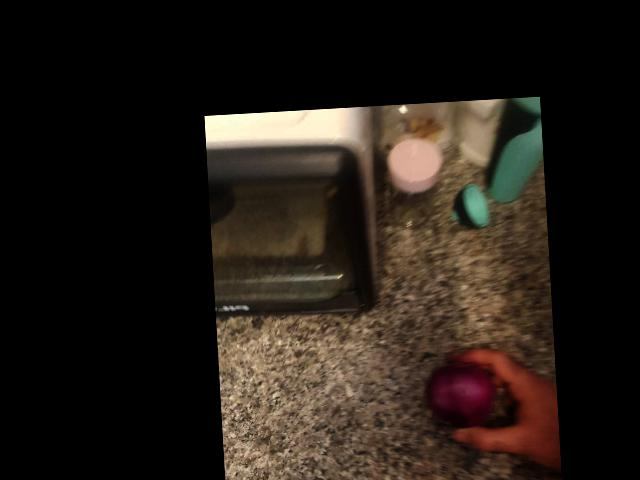onion: (430, 361, 491, 432)
